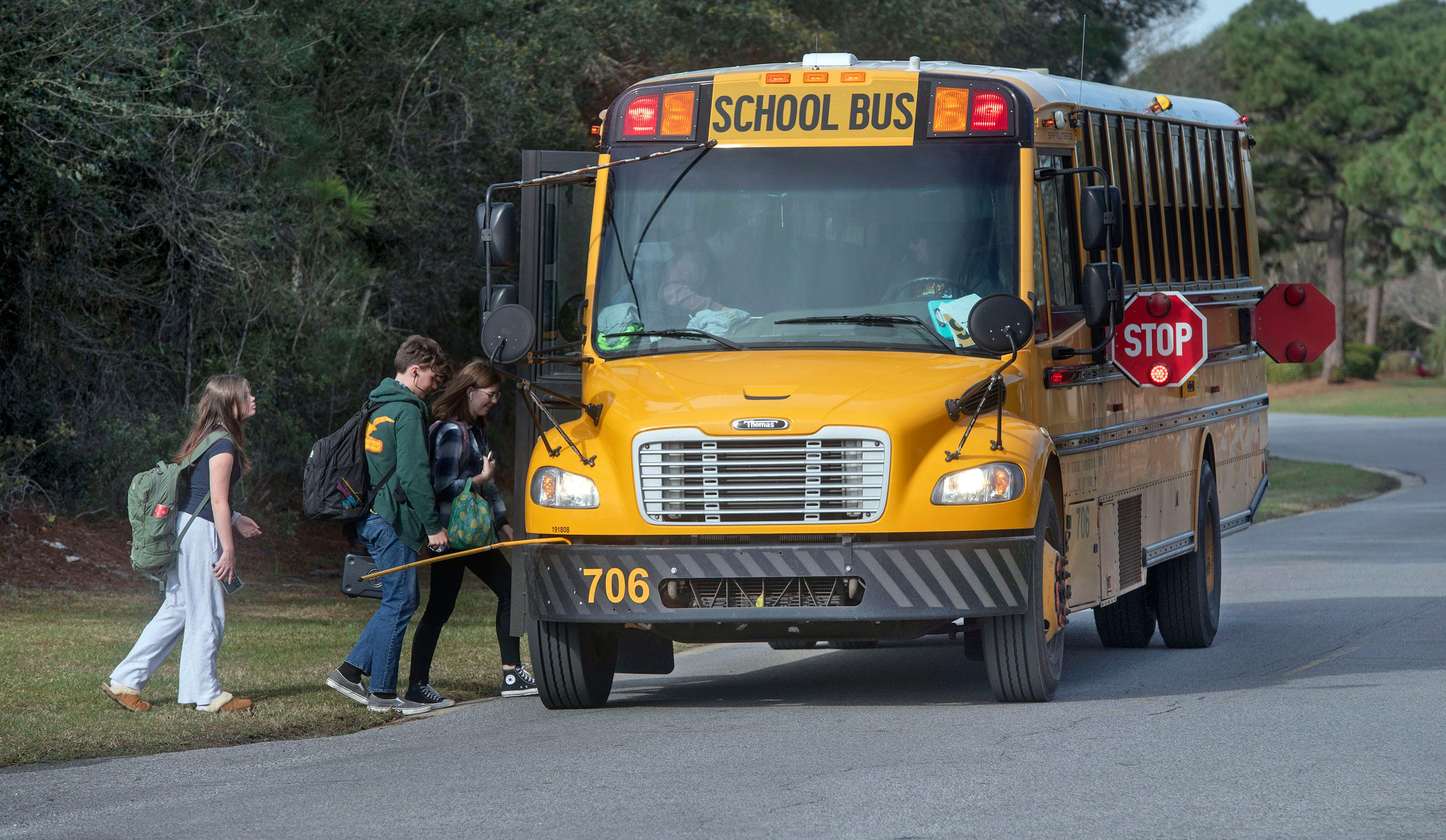Bus: (490, 56, 1286, 716)
Person: (303, 337, 436, 718), (122, 369, 260, 725), (439, 354, 541, 706)
